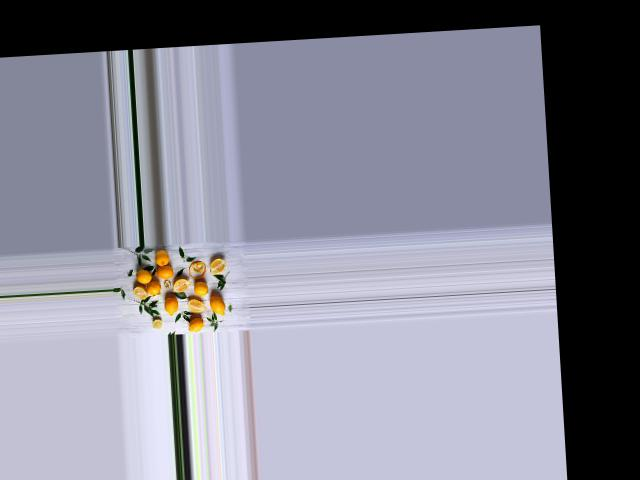lemon: (152, 250, 174, 267)
